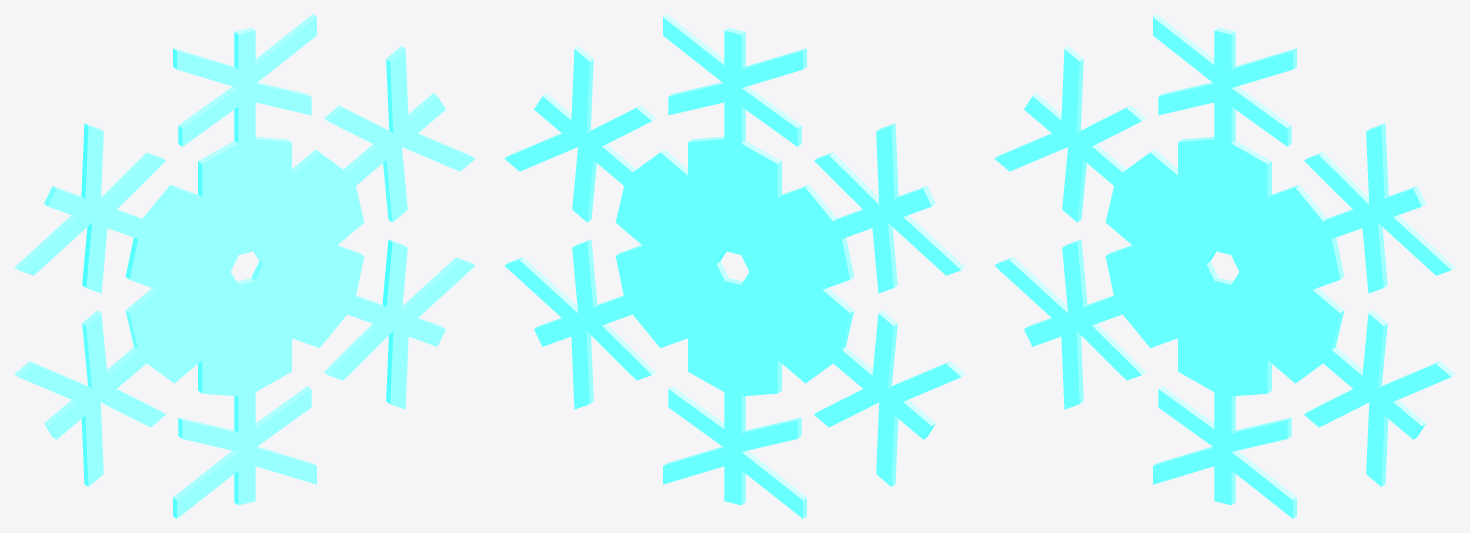
The model's file is SnowFlake.gltf.
3 renders of one model, left to right at view 1: azimuth 30°, elevation 25°; view 2: azimuth 150°, elevation 25°; view 3: azimuth 330°, elevation 25°, orthographic.
Parts seen in each view (by area): view 1: 立方体; view 2: 立方体; view 3: 立方体.
Part boxes in pixels (x1,y1,x2,y2): 立方体: (14,14,475,518); 立方体: (504,14,965,518); 立方体: (994,14,1455,518).
Size of the model in its own units: 13.57 by 13.35 by 0.2103.
